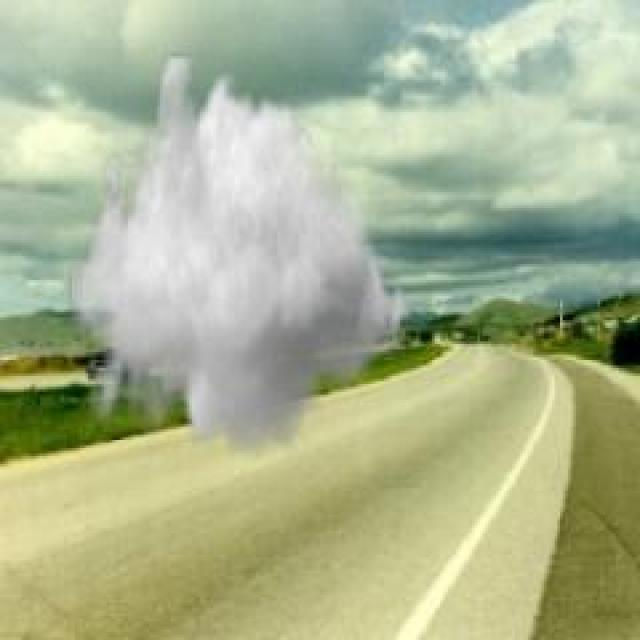Smoke: (74, 55, 402, 455)
